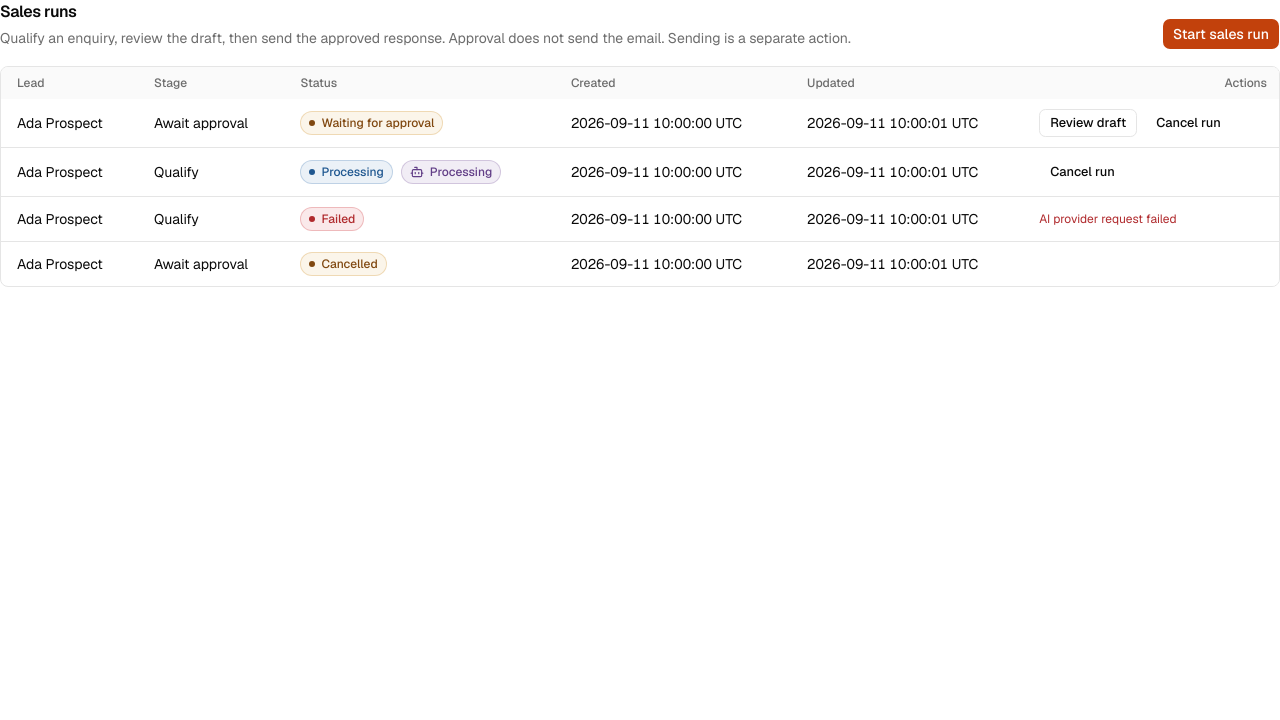
Test: SalesRunsPanel › renders run states and opens the existing draft dialog
Expected: the text "Ada Prospect" in the row of "Waiting for approval" is shown, [17,114,103,132]
Expected: the text "Waiting for approval" is shown, [300,111,443,135]
Click the button "Review draft".
click(1088, 123)  # box [1039,109,1137,137]
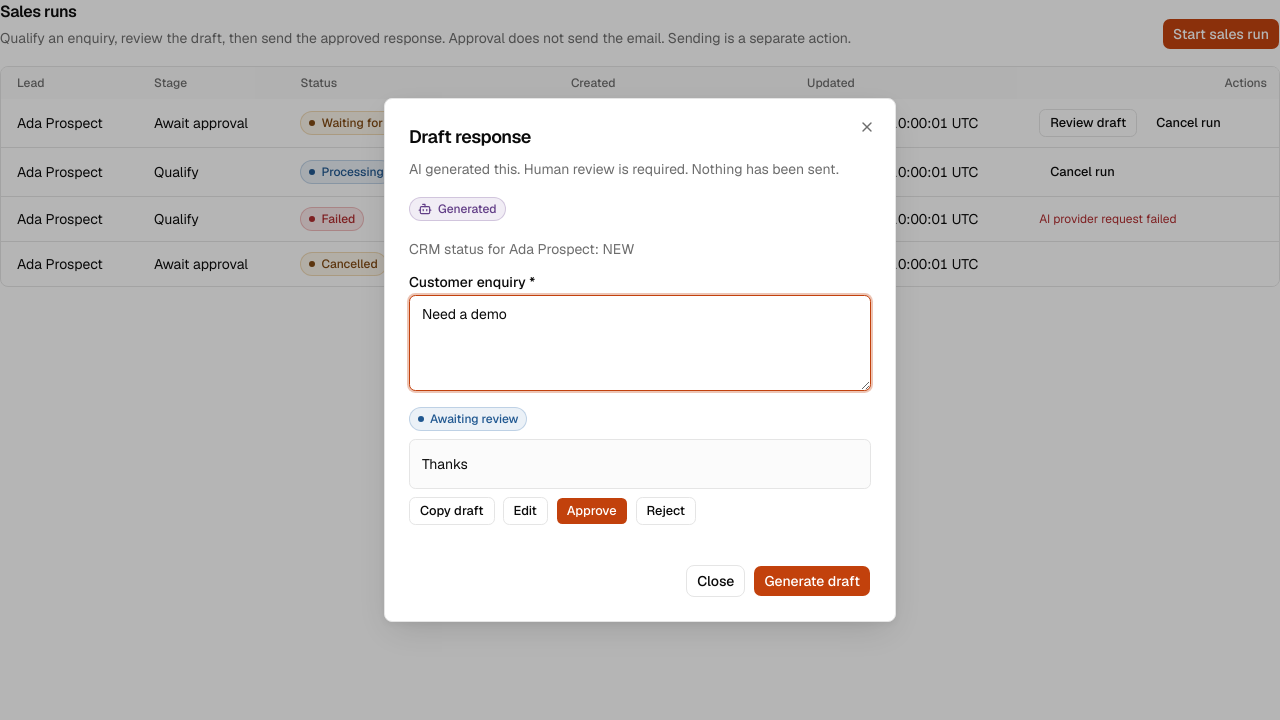
Expected: the heading "Draft response" is shown, [409,125,531,148]
